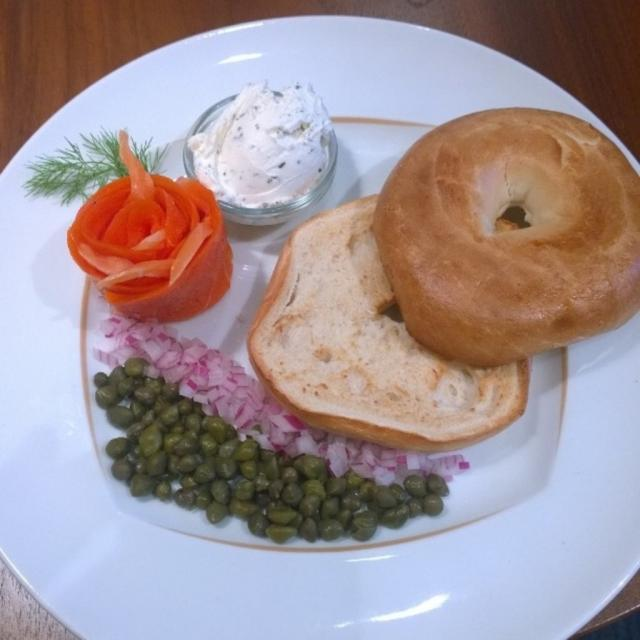Bagel: (244, 190, 534, 454), (372, 106, 639, 368)
